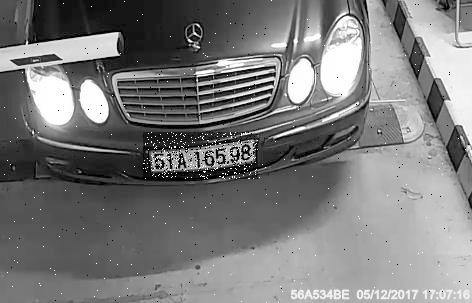License-plate: (144, 133, 259, 180)
